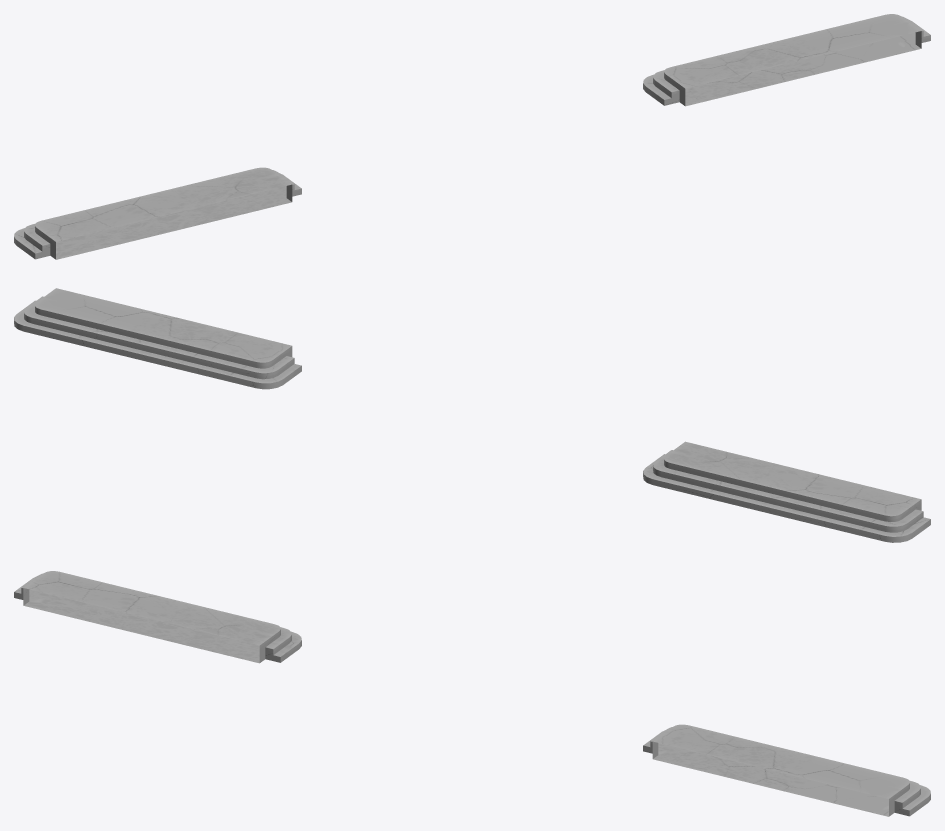
The model's file is Stair_Entrance.fbx.
3 views of the same model, one above another, from view 1: azimuth 30°, elevation 25°; view 2: azimuth 150°, elevation 25°; view 3: azimuth 330°, elevation 25° (orthographic).
Visible parts, largest first — view 1: Stair_Entrance; view 2: Stair_Entrance; view 3: Stair_Entrance.
Part boxes in pixels (box(x1,y1,x2,y2)): Stair_Entrance: box(14, 14, 930, 259); Stair_Entrance: box(14, 288, 930, 542); Stair_Entrance: box(14, 571, 930, 816).
Size of the model in its own units: 18.02 by 1.2 by 0.3428.
Materials: 1 (1 with a texture image).
